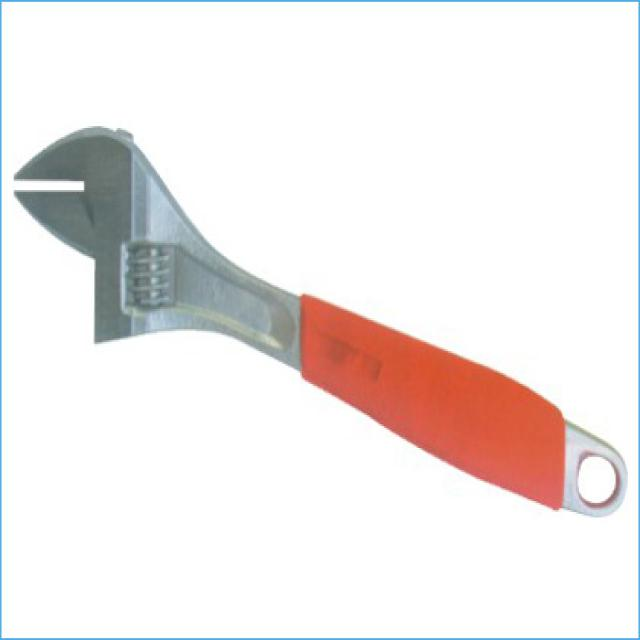wrench: (4, 113, 640, 550)
